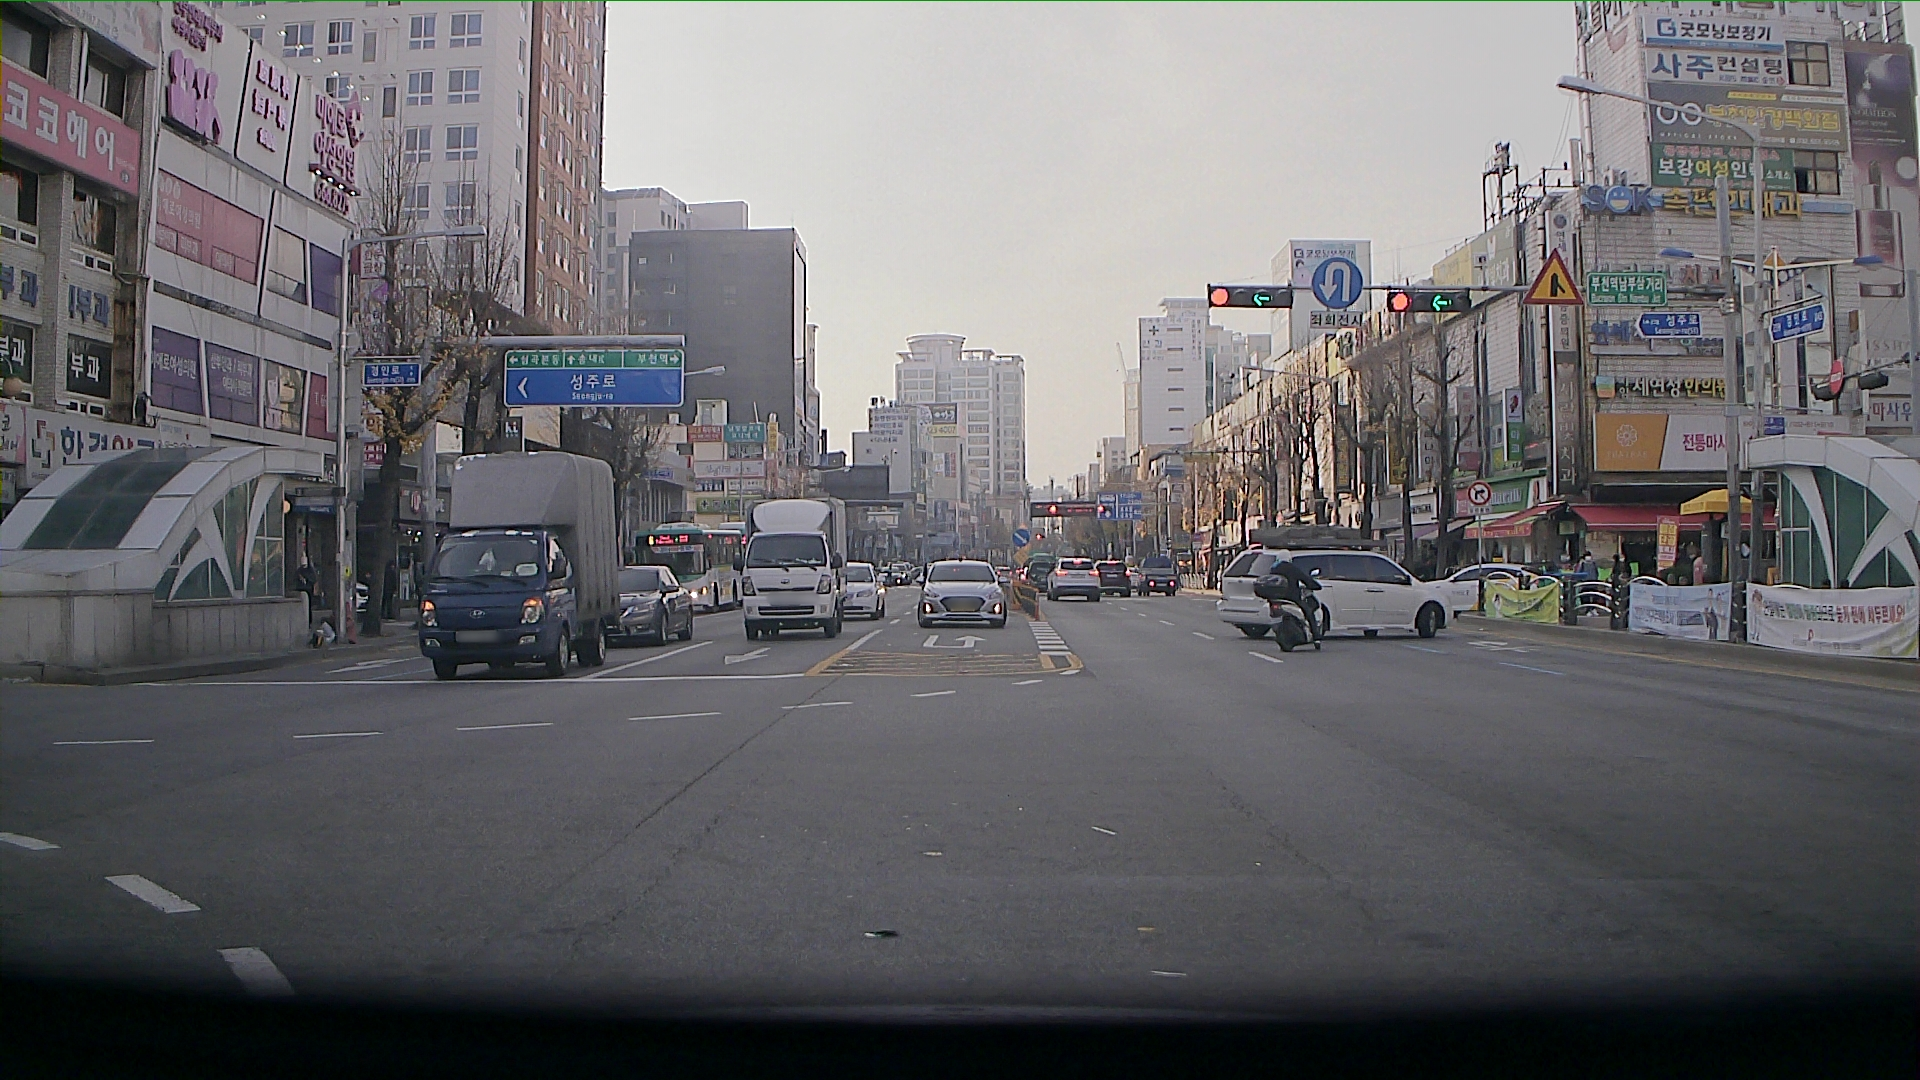trafficLight: (1203, 285, 1298, 310), (1389, 291, 1474, 315)
trafficSignCircle: (1309, 257, 1364, 307)
trafficSignTri: (1523, 251, 1586, 307)
